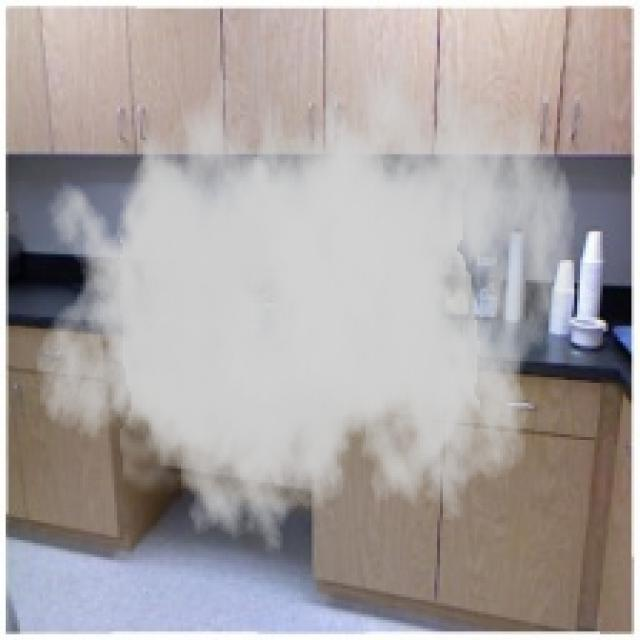Smoke: (34, 11, 577, 563)
